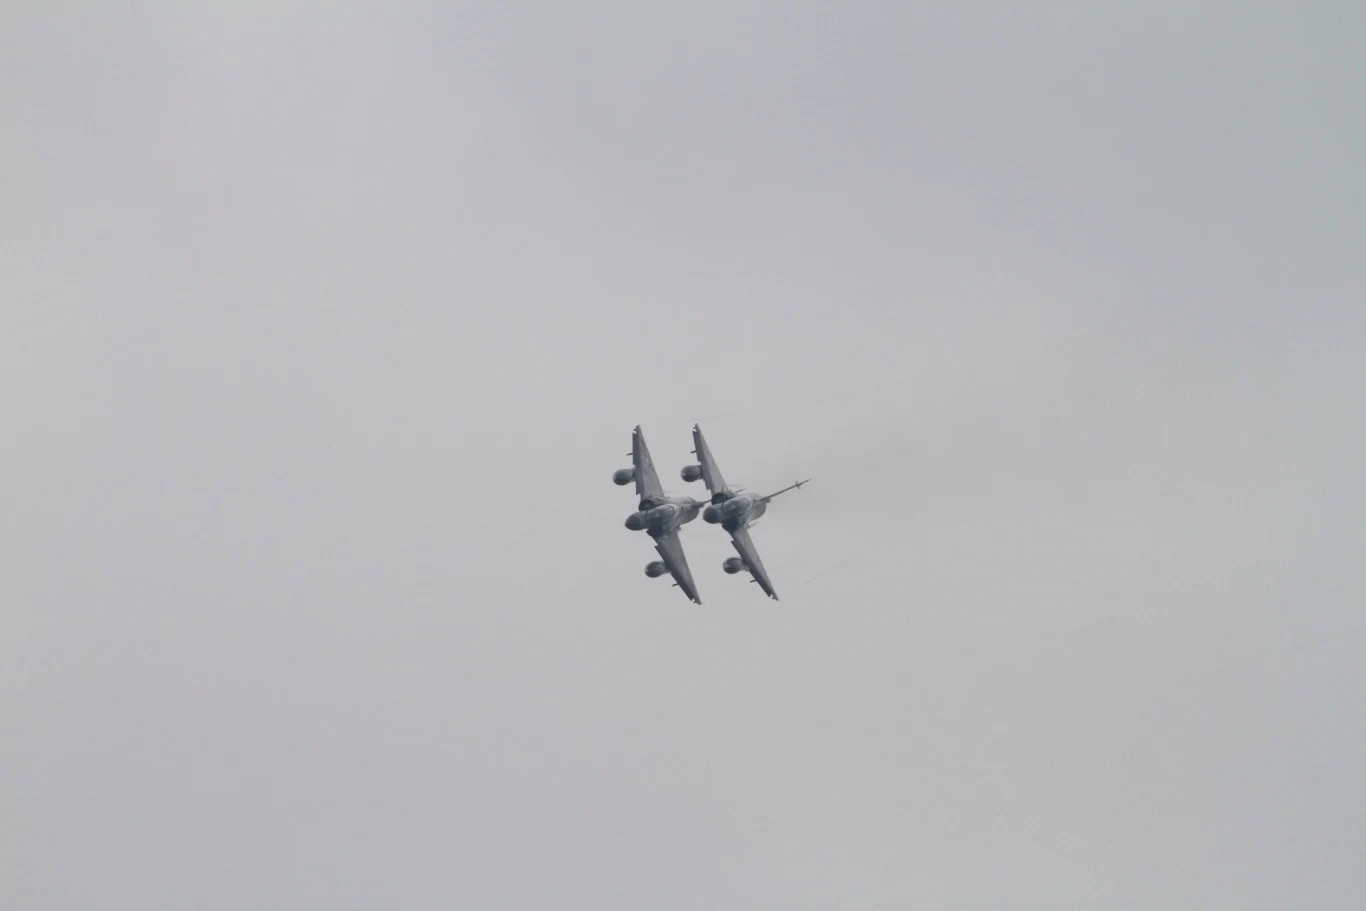Mirage2000: (679, 422, 813, 602), (611, 422, 737, 606)
